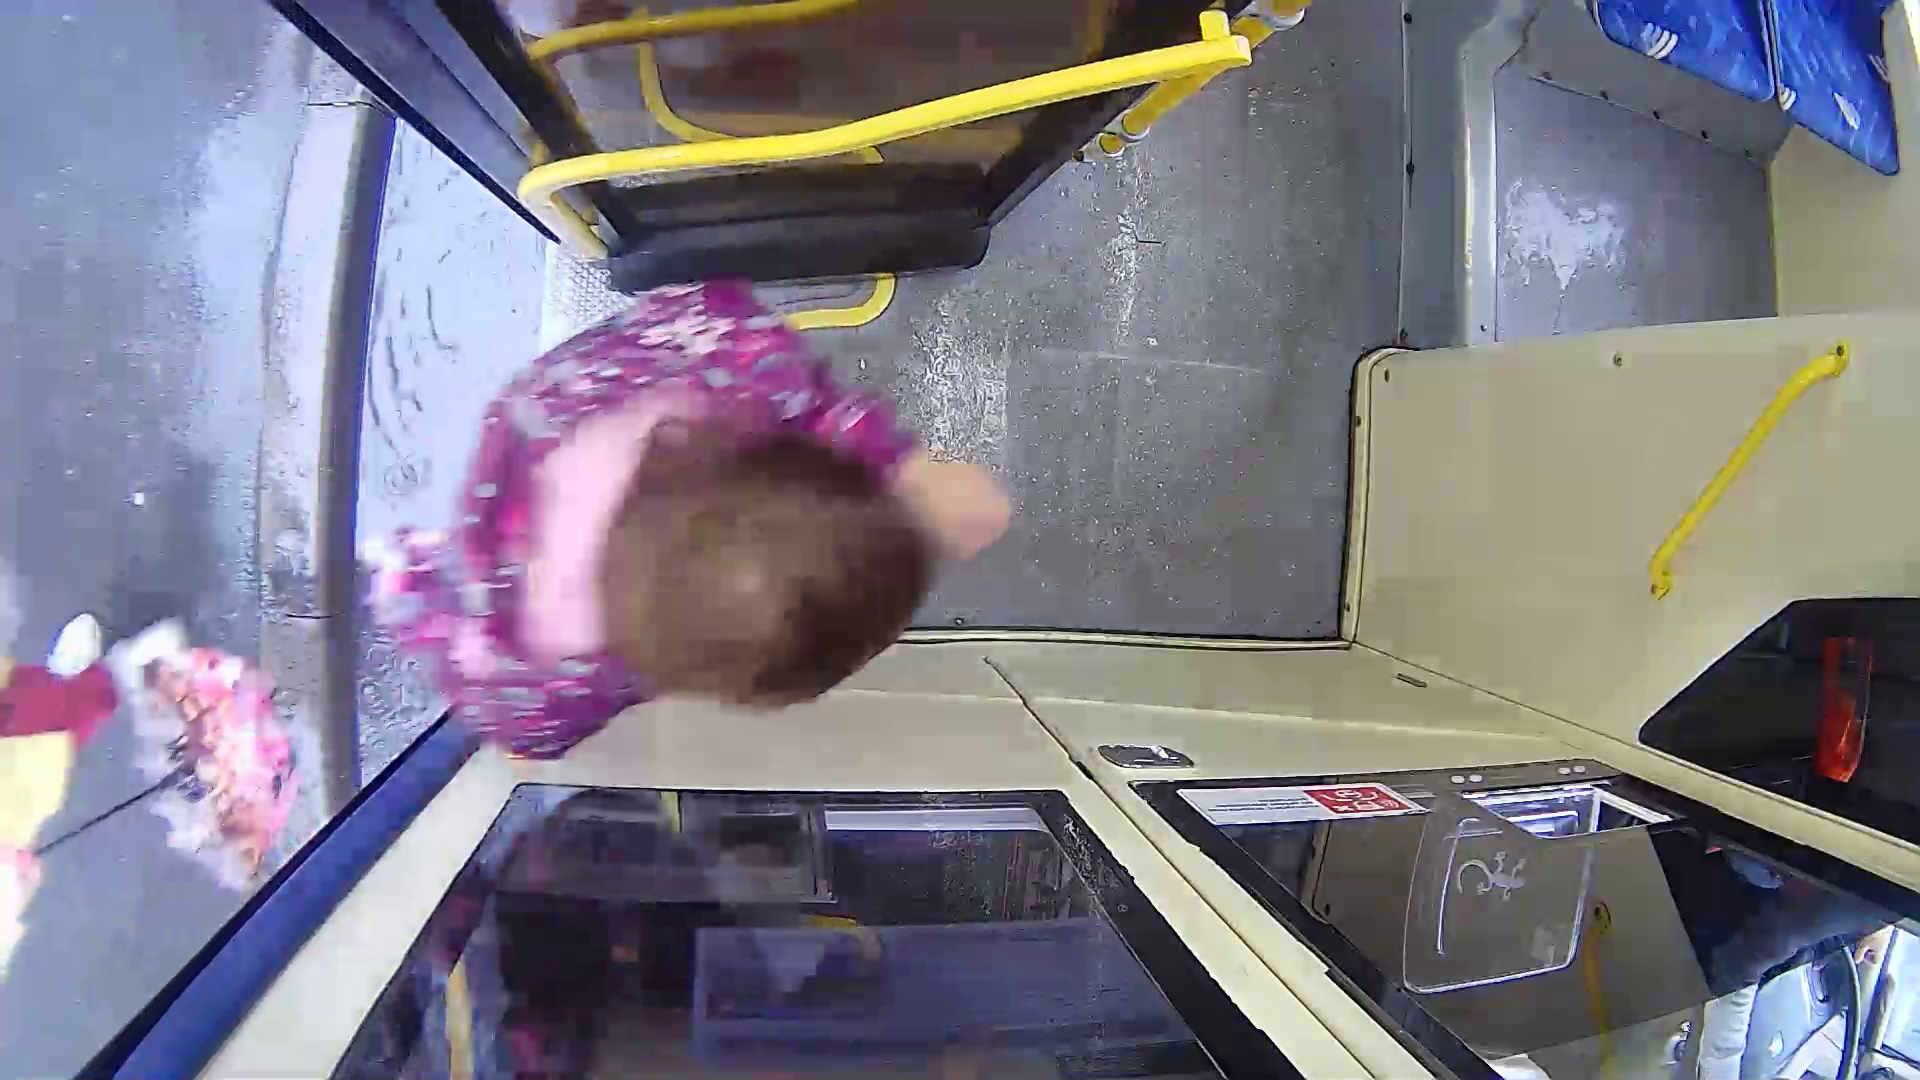person: (355, 304, 1055, 778)
